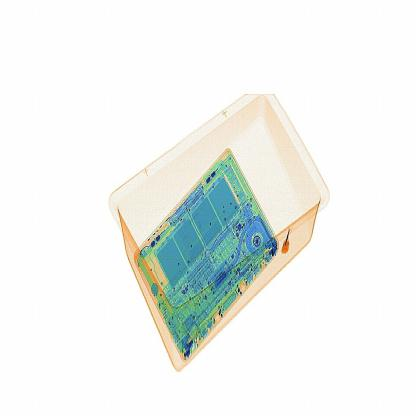wrench: (279, 226, 302, 263)
